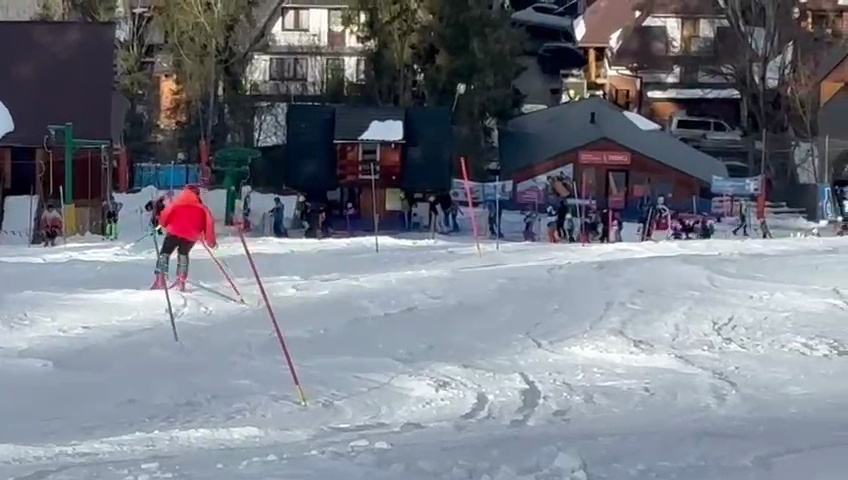gate: (219, 191, 325, 413), (139, 190, 188, 354), (459, 153, 482, 264), (365, 158, 385, 261), (572, 175, 592, 249), (493, 166, 506, 258)
